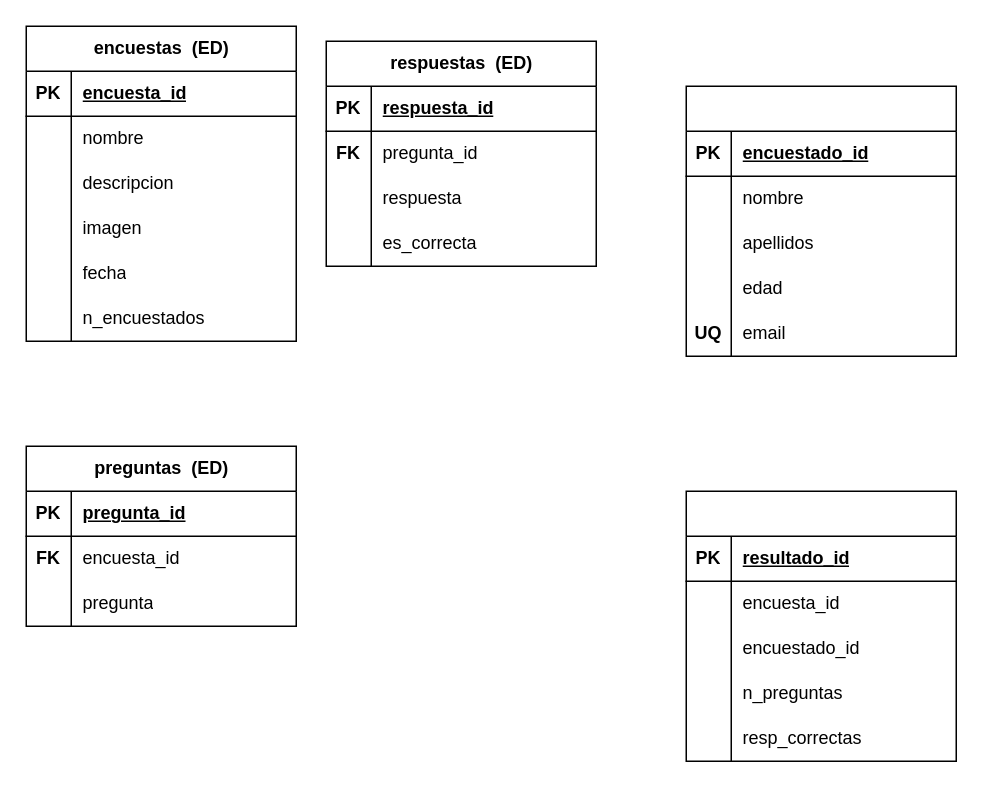
Image size: 983x788. Some labels were removed from this diagram. The box of each missing label's shape, as (x1, y1, x2, y2) in pixels:
encuestados (ED): (685, 85, 956, 356)
resultados: (685, 490, 956, 761)
